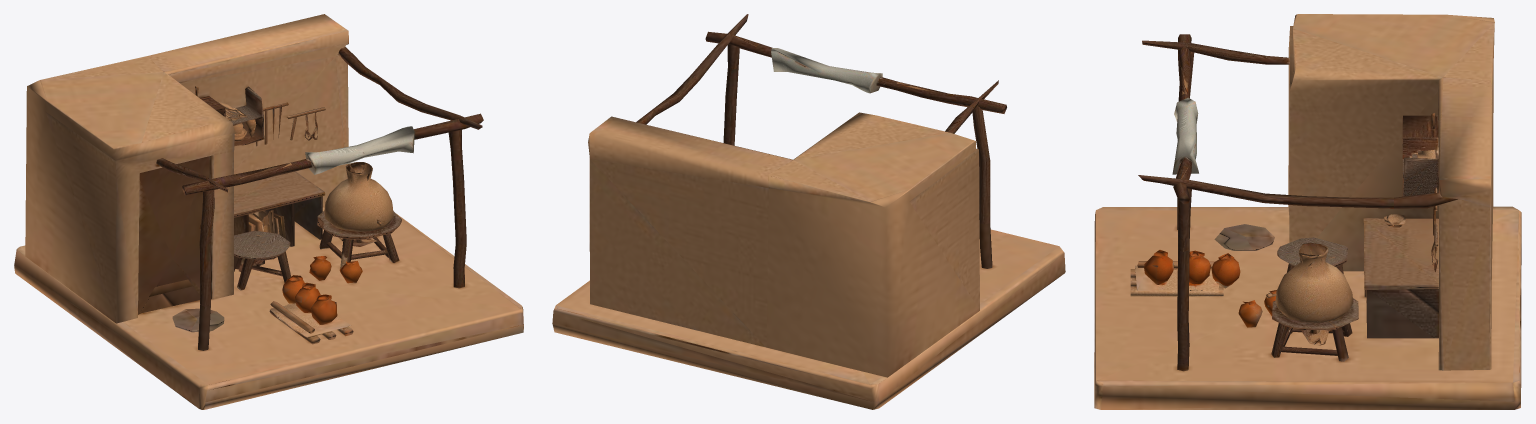
File: workshop.glb
3 views of the same model, side by side, from view 1: azimuth 30°, elevation 25°; view 2: azimuth 150°, elevation 25°; view 3: azimuth 270°, elevation 25° (orthographic). The views are drawn at different scales.
Size of the model in its own units: 0.9492 by 0.5508 by 0.9624.
Materials: 1 (1 with a texture image).
